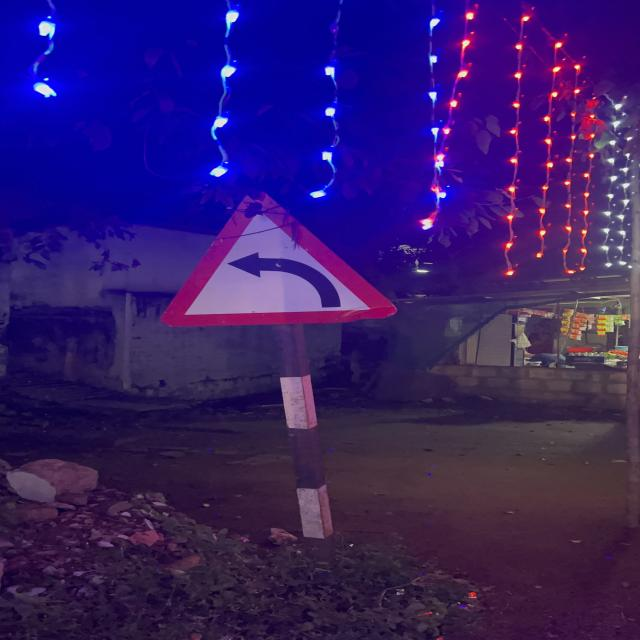left_hand_curve: (161, 197, 411, 331)
